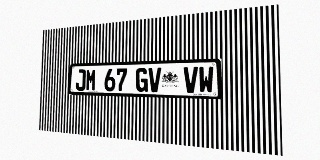6: (104, 68, 116, 91)
7: (115, 68, 127, 92)
G: (135, 68, 148, 92)
J: (75, 69, 86, 91)
M: (86, 69, 96, 91)
V: (184, 67, 198, 93), (148, 67, 161, 92)
W: (198, 66, 214, 93)
